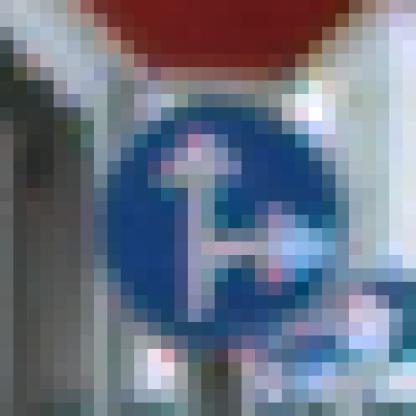Straight or Right: (82, 68, 337, 337)
